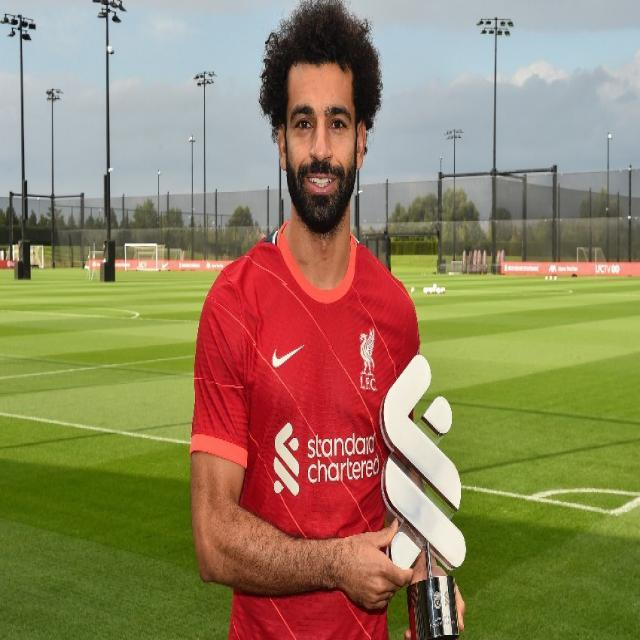Nike: (271, 347, 304, 368)
Standard Chartered: (381, 351, 466, 576), (274, 420, 381, 495)
